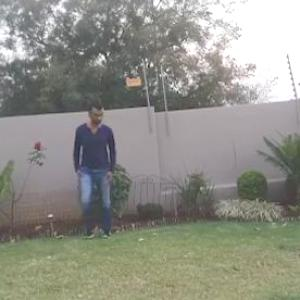follow: (62, 95, 112, 252)
